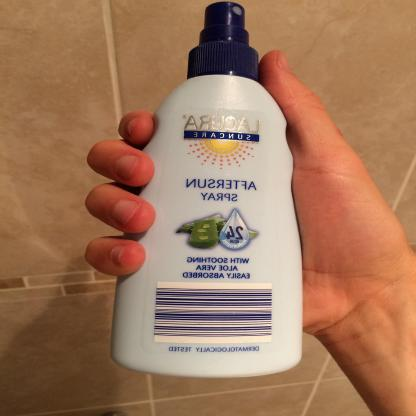plastik: (109, 1, 305, 378)
